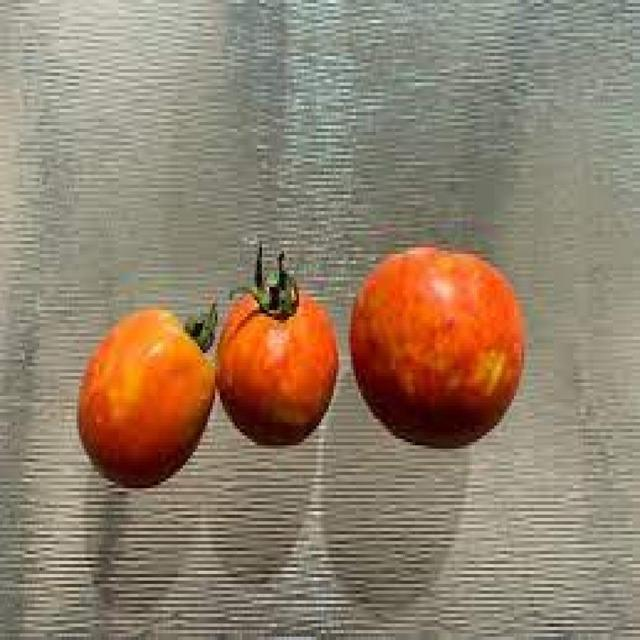Spotted wilt Virus Fruit: (81, 110, 292, 265)
